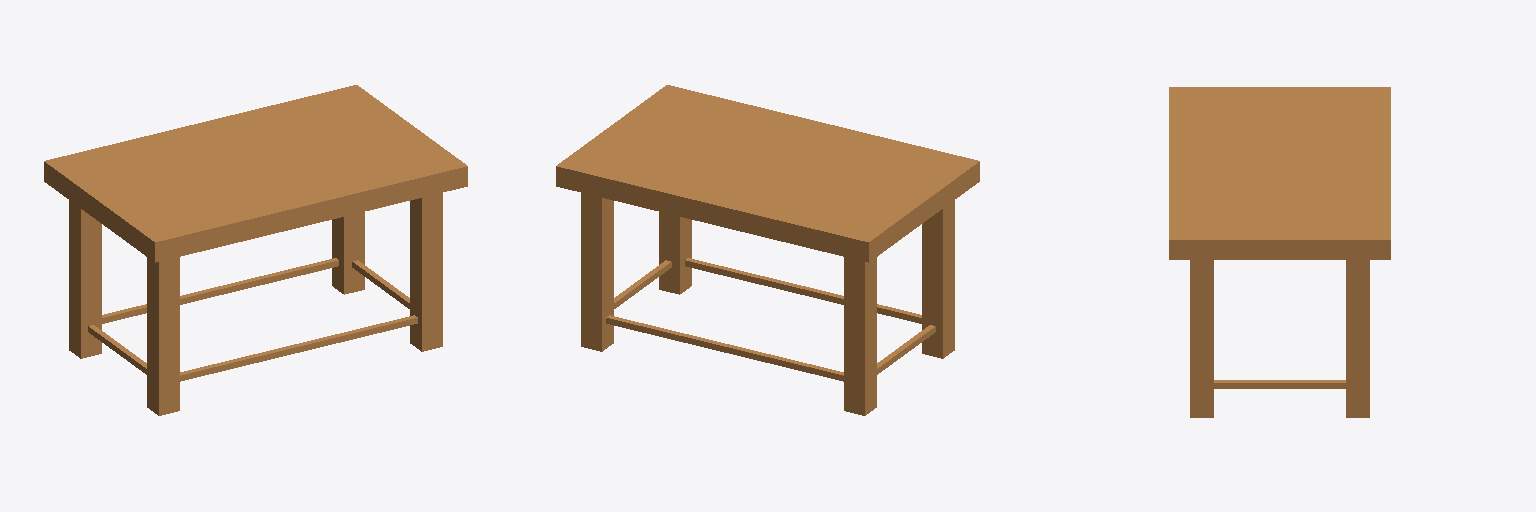
The picture shows the model from 3 angles: view 1: azimuth 30°, elevation 25°; view 2: azimuth 150°, elevation 25°; view 3: azimuth 270°, elevation 25°; orthographic projection.
Parts seen in each view (by area): view 1: Cube.022_Cube.010; view 2: Cube.022_Cube.010; view 3: Cube.022_Cube.010.
Boxes of the visible parts, box(x1,y1,x2,y2) form: Cube.022_Cube.010: box(44, 85, 467, 415); Cube.022_Cube.010: box(556, 85, 979, 415); Cube.022_Cube.010: box(1169, 87, 1390, 417).
Size of the model in its own units: 8.18 by 4.62 by 5.04.
1 materials, 1 textured.